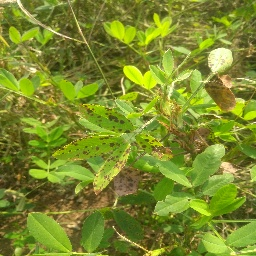GroundNut_Leaf: (26, 211, 74, 253), (92, 145, 132, 194), (54, 133, 119, 161), (190, 144, 227, 184), (79, 210, 106, 254), (200, 234, 256, 255), (60, 77, 104, 102), (111, 208, 144, 241), (152, 192, 193, 216), (209, 185, 238, 218), (157, 158, 188, 187), (103, 21, 136, 44), (123, 65, 157, 87), (17, 77, 35, 98), (161, 47, 174, 76)
